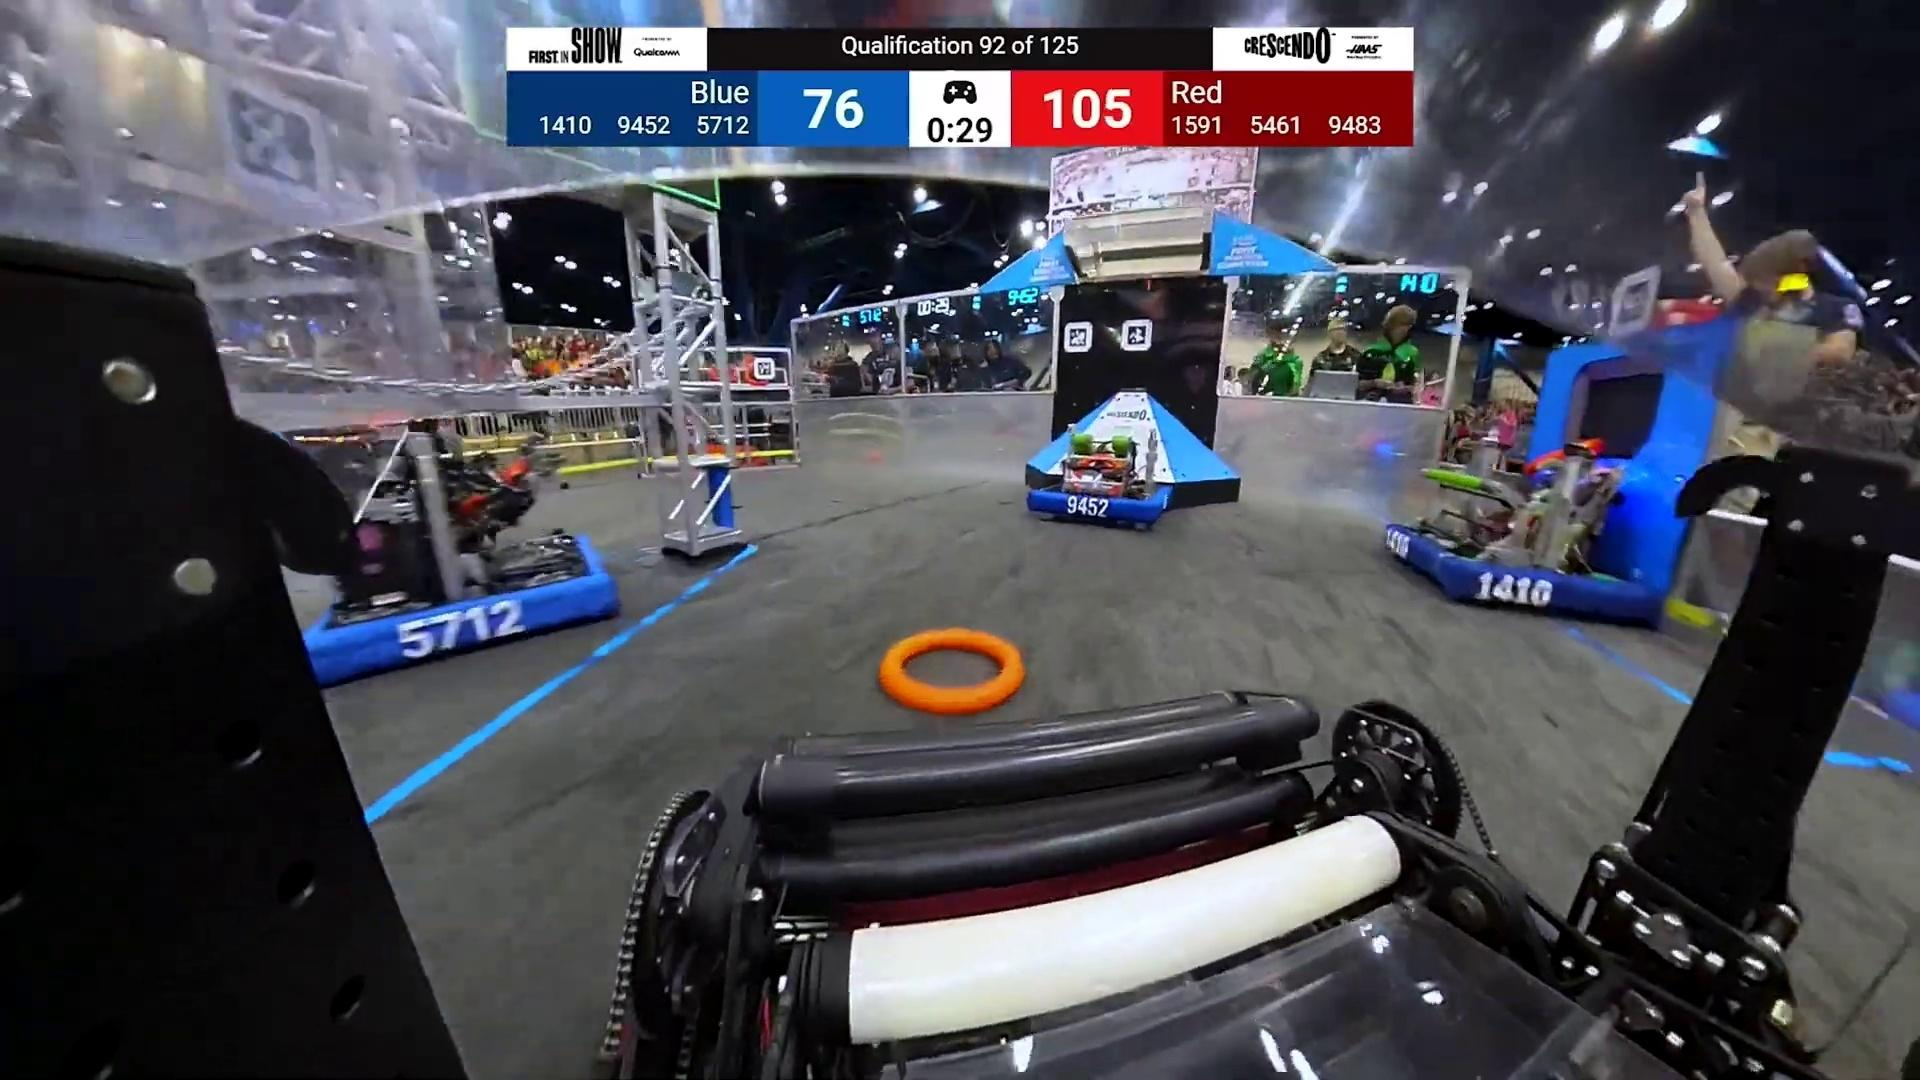robot: (301, 422, 618, 687), (1381, 425, 1667, 628), (1026, 430, 1174, 527)
